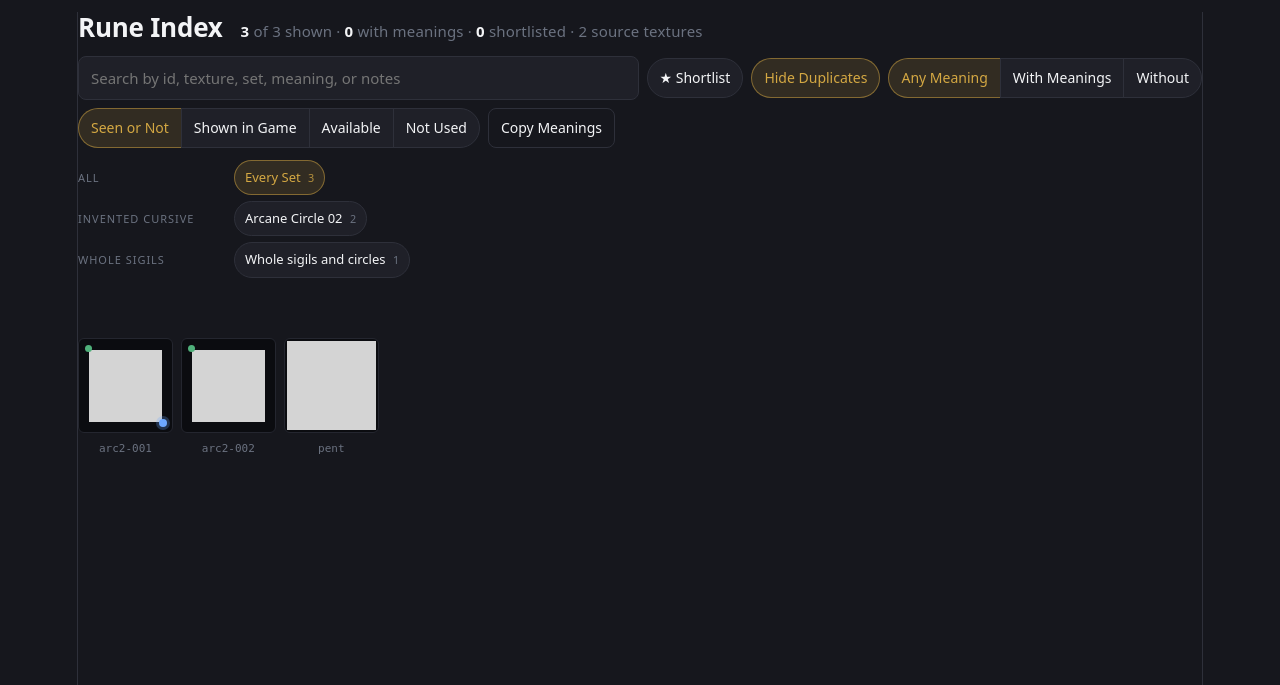
Test: RuneIndexPage › says who else has a rune open
The width and height of the screenshot is (1280, 685).
Click the button with aria-label "Rune arc2-001" at (125, 391), box [78,319,173,462]
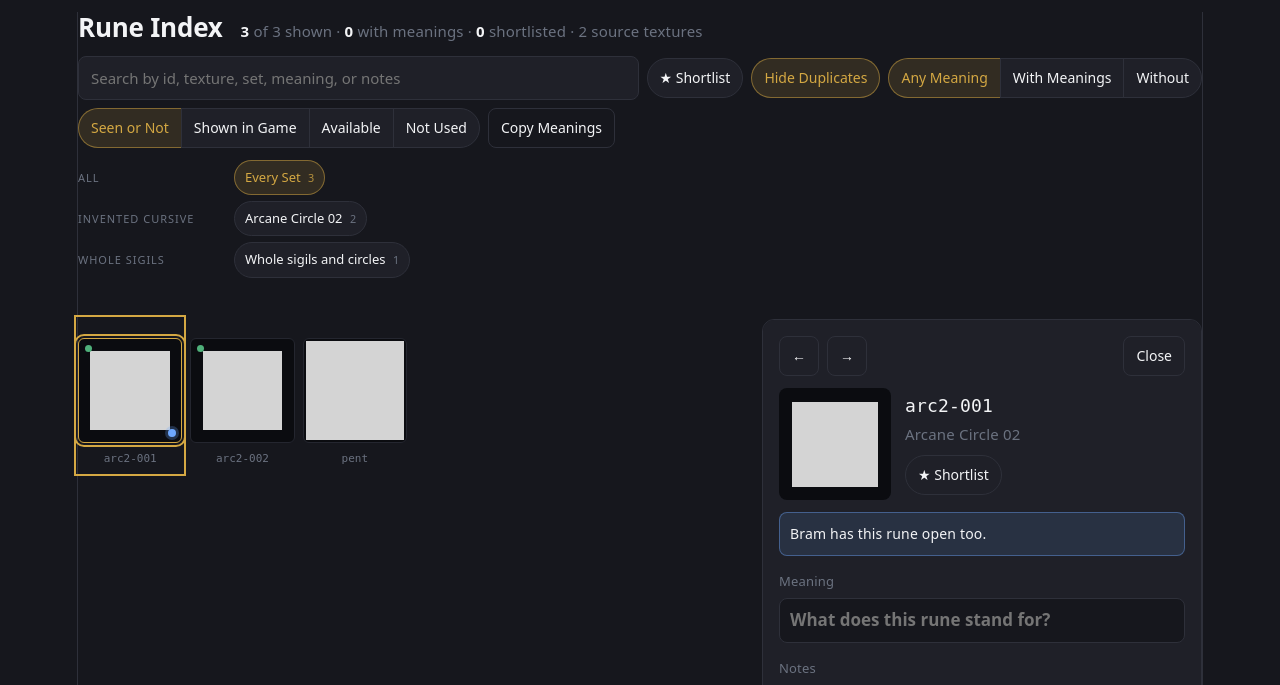
Result: the text "Bram has this rune open too." is shown at [779,512,1185,556]
